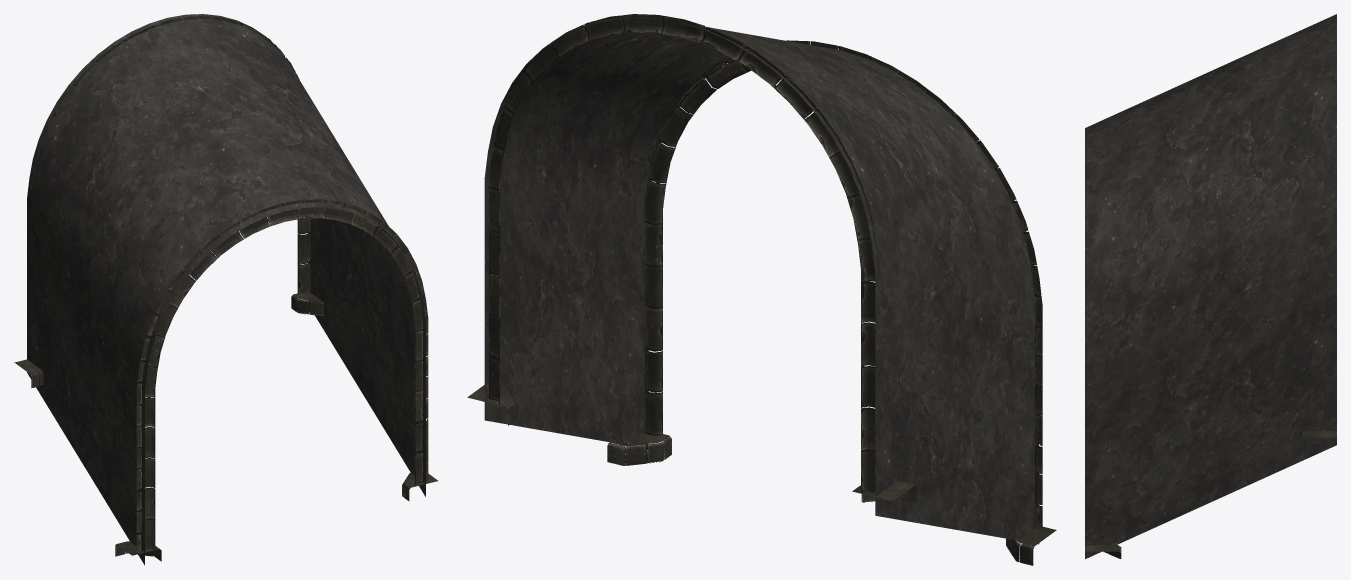
The picture shows the model from 3 angles, left to right: view 1: azimuth 30°, elevation 25°; view 2: azimuth 150°, elevation 25°; view 3: azimuth 270°, elevation 25°; orthographic projection. The views are drawn at different scales.
Visible parts, largest first — view 1: SM_Dowdun_Vaulted_Tunnel_12x8_03_LOD0; view 2: SM_Dowdun_Vaulted_Tunnel_12x8_03_LOD0; view 3: SM_Dowdun_Vaulted_Tunnel_12x8_03_LOD0.
Part boxes in pixels (left/top/right/bottom): SM_Dowdun_Vaulted_Tunnel_12x8_03_LOD0: left=14, top=14, right=437, bottom=565; SM_Dowdun_Vaulted_Tunnel_12x8_03_LOD0: left=467, top=14, right=1056, bottom=565; SM_Dowdun_Vaulted_Tunnel_12x8_03_LOD0: left=1085, top=14, right=1336, bottom=559.
Size of the model in its own units: 12 by 16 by 8.
Materials: 2 (2 with a texture image).
